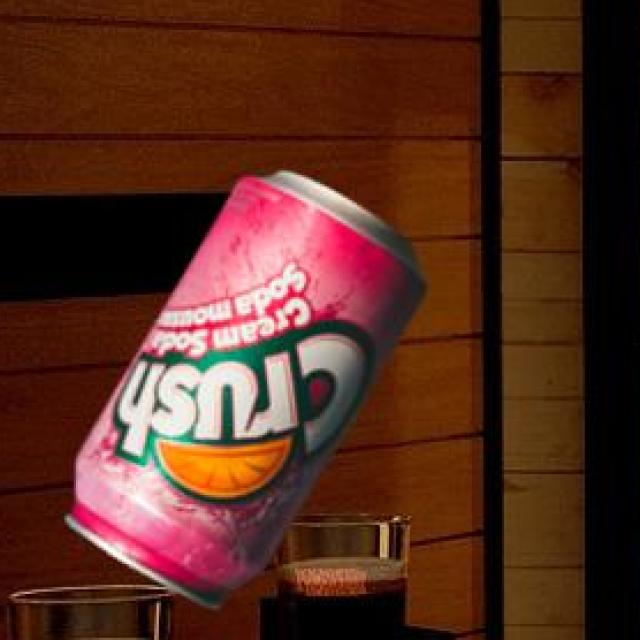logam: (61, 169, 422, 604)
